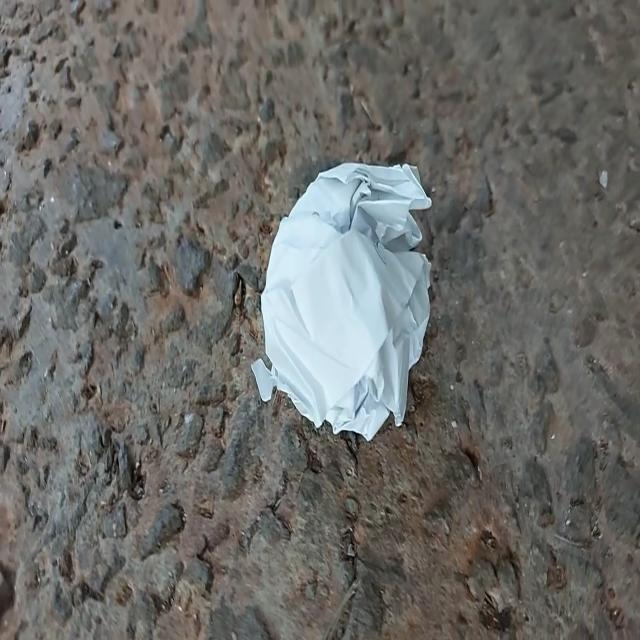Paper: (240, 154, 454, 448)
